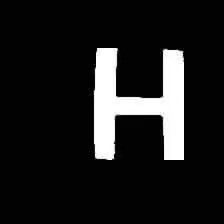LTR_H: (86, 35, 189, 169)
